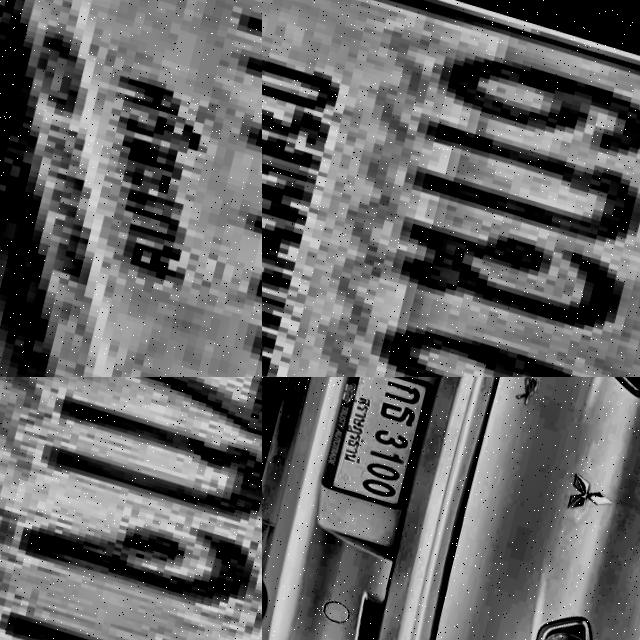license-plate: (262, 0, 640, 377), (0, 0, 262, 377), (0, 377, 262, 640), (318, 377, 440, 513)
